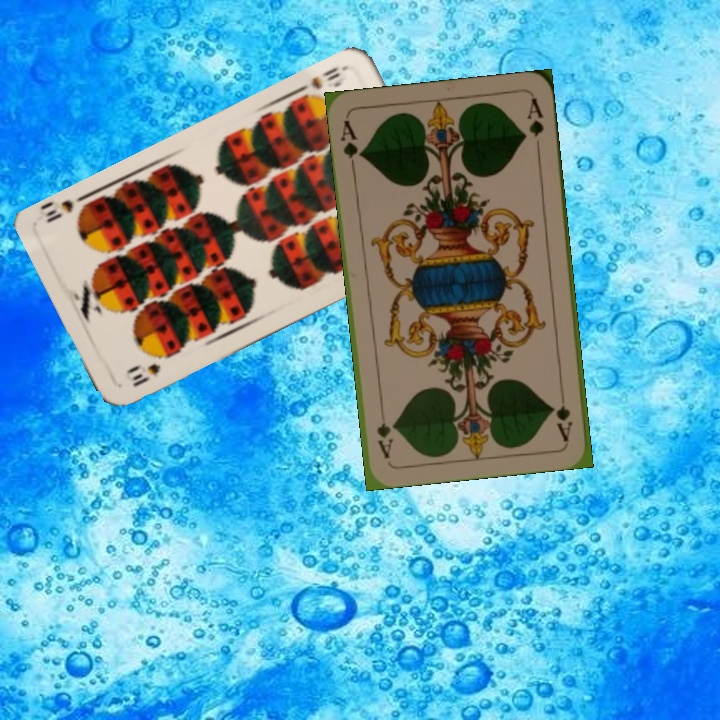GA: (336, 116, 365, 174), (552, 384, 575, 444)
S10: (294, 62, 342, 94), (124, 359, 164, 390)
